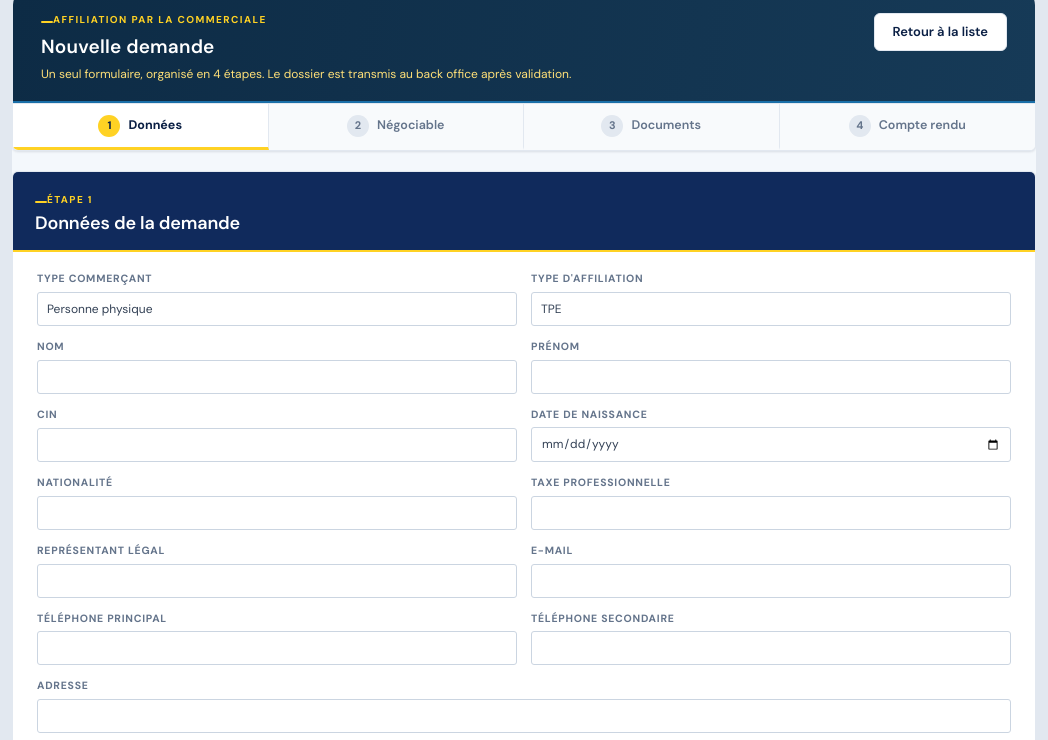
CommercialDossierCreatePage › genere des cartes de point de vente selon le nombre saisi (type TPE)
The image size is (1048, 740).
Select "TPE" in the dropdown labelled "Type d'affiliation": (771, 309) x1=531 y1=292 x2=1011 y2=326
(page scrolled)
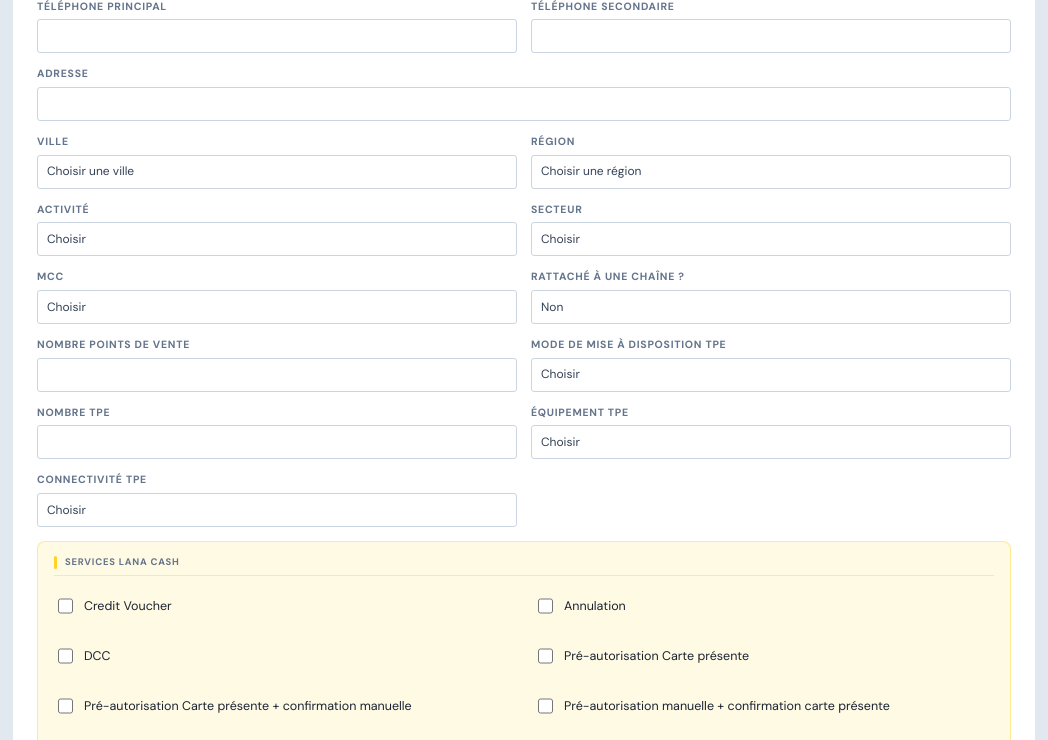
In the number field labelled "Nombre points de vente": (277, 375) x1=37 y1=358 x2=517 y2=392, type "2"
(page scrolled)
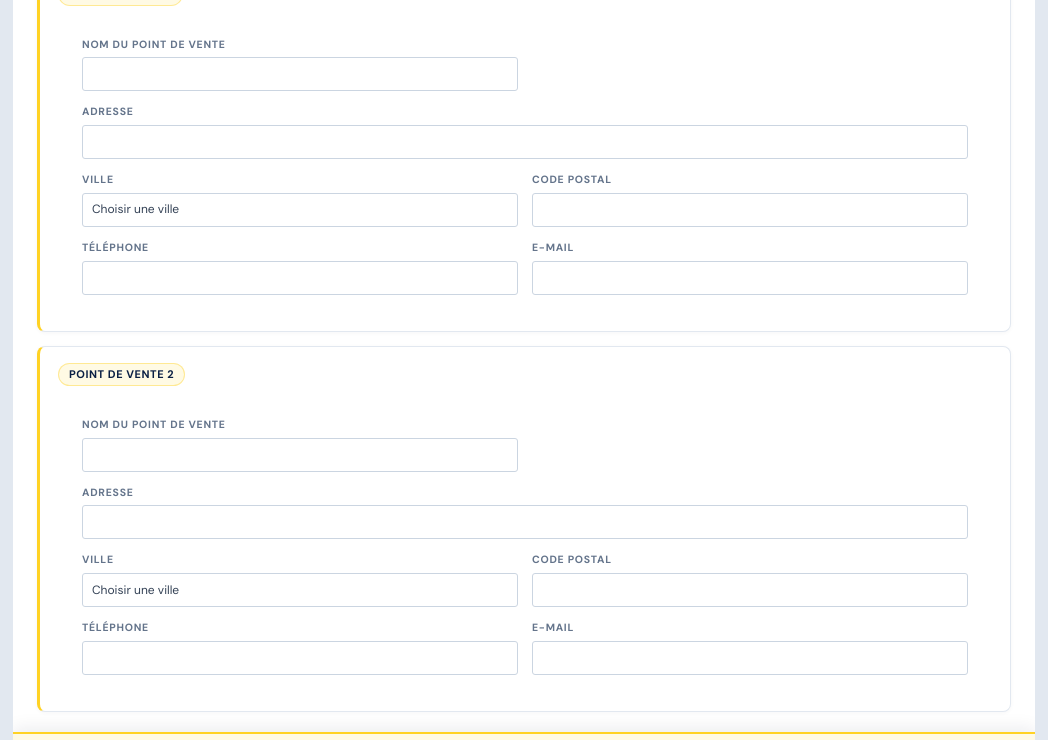
Expected: the heading "Point de vente 2" is shown, x1=58 y1=362 x2=185 y2=386
